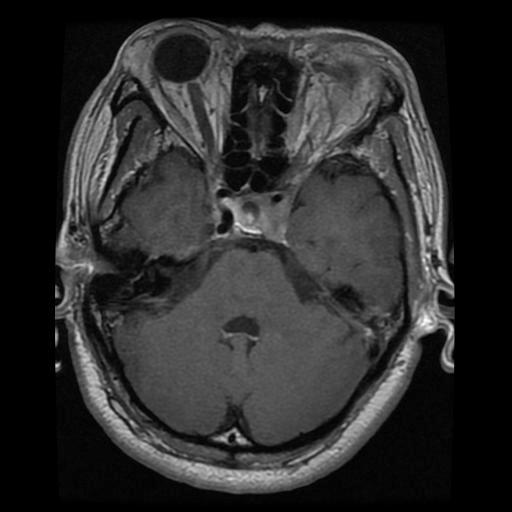Tumour-Pituitary: (211, 187, 303, 243)
